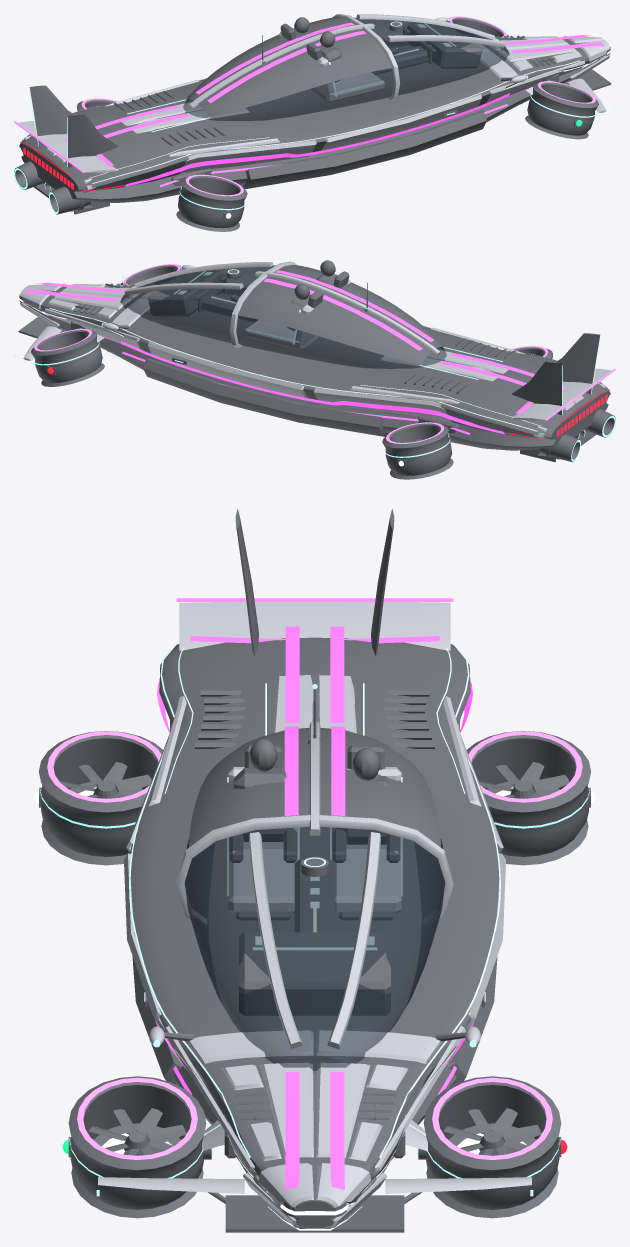
The model's file is hover235.glb.
3 renders of one model, top to bottom at view 1: azimuth 30°, elevation 25°; view 2: azimuth 150°, elevation 25°; view 3: azimuth 270°, elevation 25°, orthographic. The views are drawn at different scales.
Parts seen in each view (by area): view 1: h235-trim, h235-chassis, h235-body, h235-glass, h235-livery, h235-accent, h235-glow, h235-tail; view 2: h235-trim, h235-chassis, h235-body, h235-glass, h235-livery, h235-accent, h235-glow, h235-tail; view 3: h235-trim, h235-chassis, h235-body, h235-glass, h235-livery, h235-glow, h235-accent, h161-rotor-1, h161-rotor-0, h161-rotor-2, h161-rotor-3.
Boxes of the visible parts, box(x1,y1,x2,y2) form: h235-trim: box(14, 17, 611, 231); h235-chassis: box(19, 36, 605, 202); h235-body: box(18, 14, 610, 192); h235-glass: box(183, 17, 509, 120); h235-livery: box(63, 22, 604, 187); h235-accent: box(14, 17, 615, 213); h235-glow: box(14, 16, 595, 198); h235-tail: box(20, 141, 125, 191); h235-trim: box(18, 260, 615, 479); h235-chassis: box(24, 284, 610, 450); h235-body: box(19, 261, 611, 440); h235-glass: box(120, 265, 446, 368); h235-livery: box(25, 270, 566, 434); h235-accent: box(14, 265, 615, 461); h235-glow: box(34, 264, 615, 446); h235-tail: box(504, 389, 609, 438); h235-trim: box(38, 509, 591, 1232); h235-chassis: box(130, 637, 499, 1228); h235-body: box(98, 602, 531, 1228); h235-glass: box(185, 827, 444, 1070); h235-livery: box(149, 626, 474, 1190); h235-glow: box(47, 598, 582, 1159); h235-accent: box(39, 604, 590, 1196); h161-rotor-1: box(88, 1108, 186, 1155); h161-rotor-0: box(443, 1108, 541, 1155); h161-rotor-2: box(478, 762, 569, 798); h161-rotor-3: box(60, 762, 151, 798).
Size of the model in its own units: 4.86 by 1.07 by 2.07.
